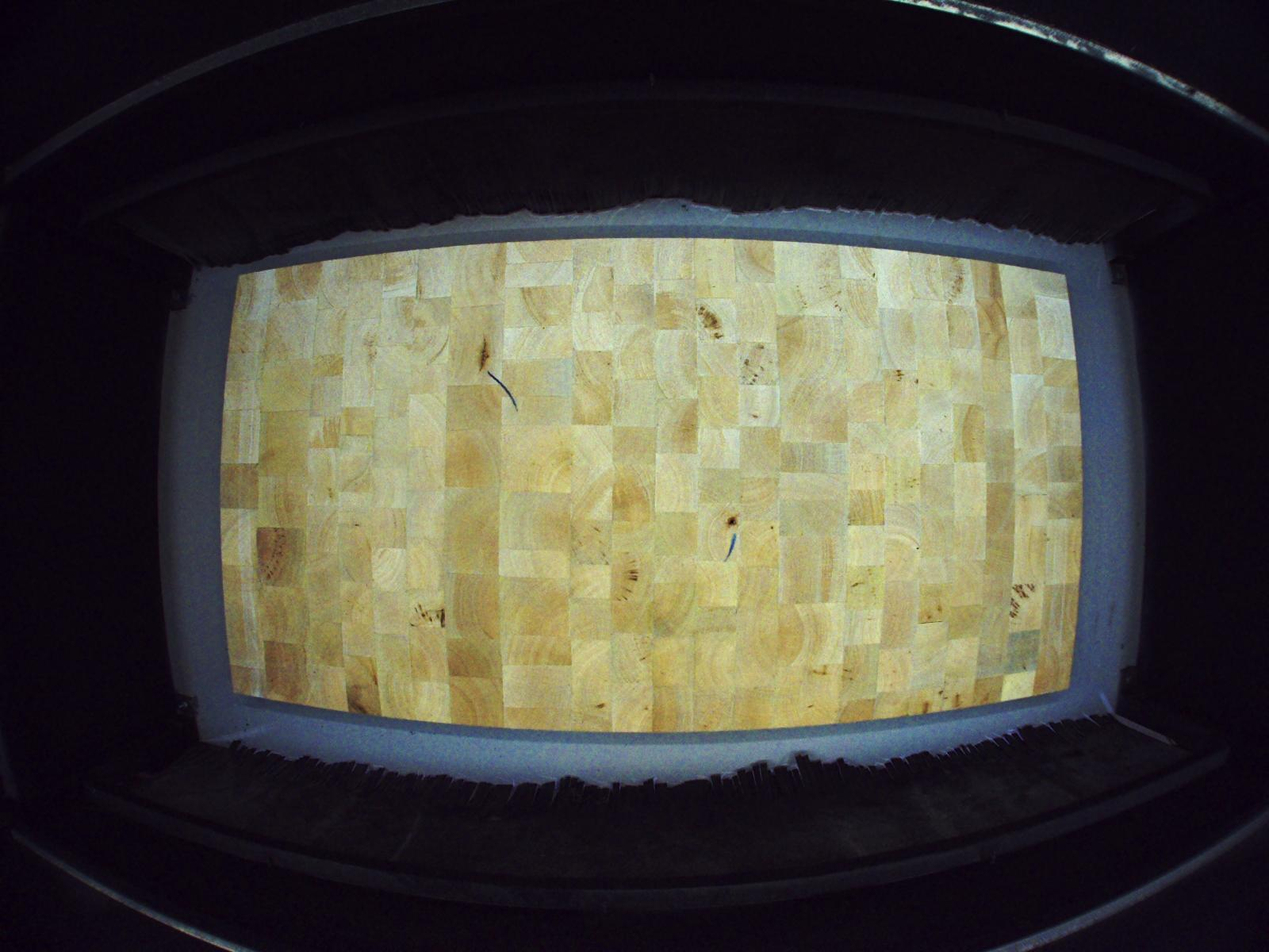nudillo: (725, 512, 740, 529)
